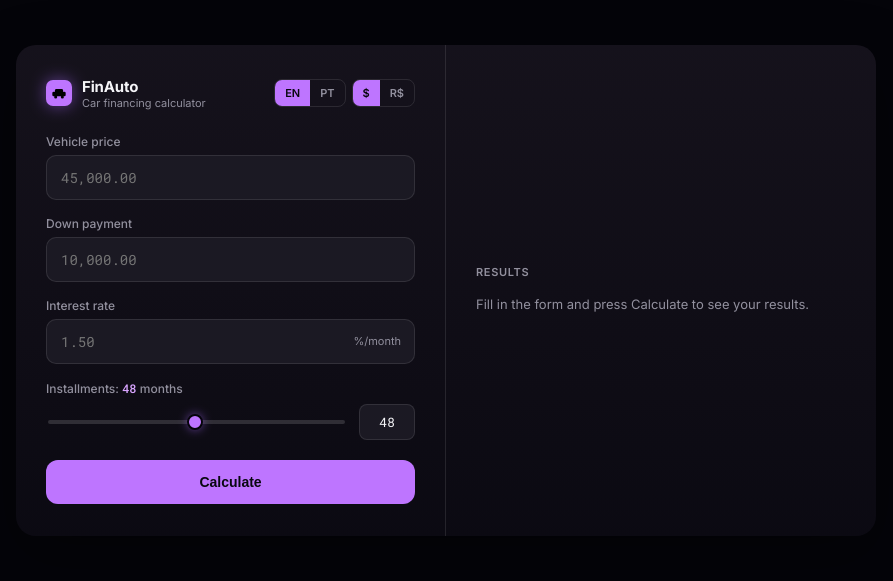
App › shows validation errors and no results when submitting an empty rate
This screenshot has width=893, height=581.
Click the button "Calculate" at x=230, y=482, box [46,460,415,504]
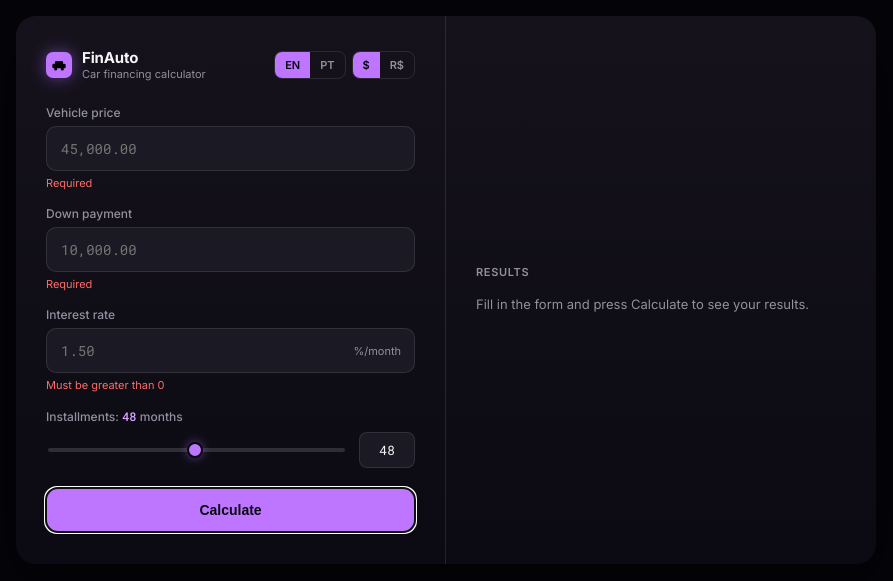
Expected: the text "Fill in the form and press Calculate to see your results." is shown, [476,295,846,315]
Expected: the text "Must be greater than 0" is shown, [46,378,164,392]
